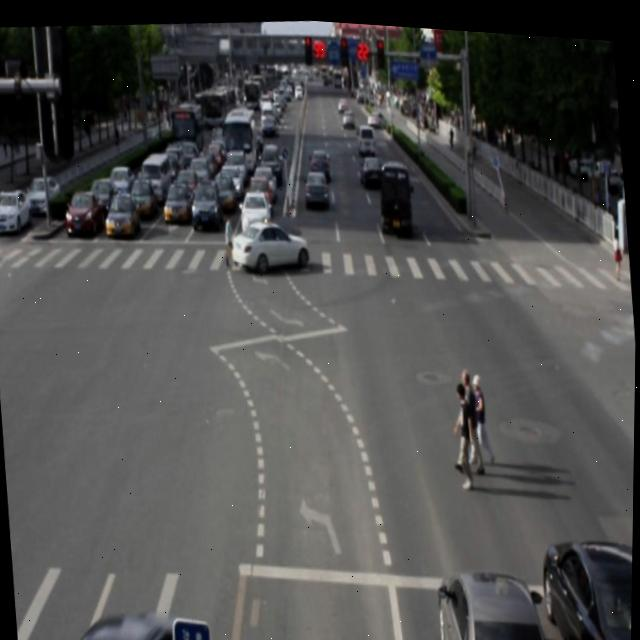car: (534, 525, 634, 640), (433, 556, 552, 640), (42, 599, 199, 640), (229, 212, 308, 271)
